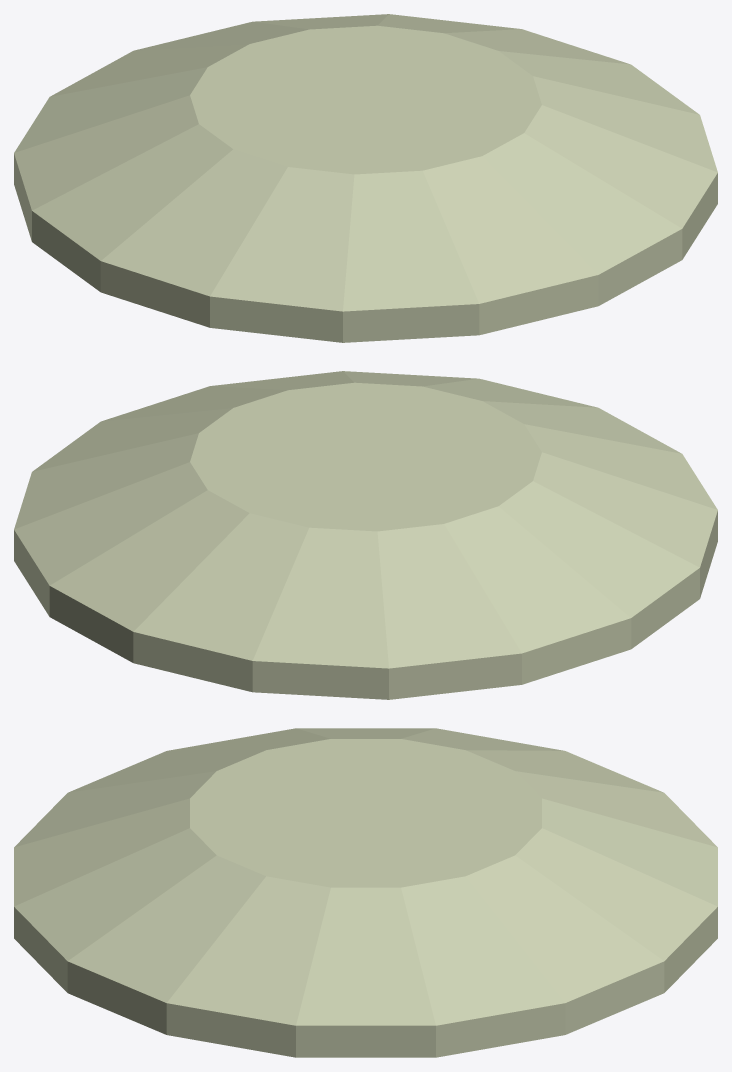
The model's file is tucana_adapter_s2_s1_2_collider.obj.
The picture shows the model from 3 angles, top to bottom: view 1: azimuth 30°, elevation 25°; view 2: azimuth 150°, elevation 25°; view 3: azimuth 270°, elevation 25°; orthographic projection.
Visible parts, largest first — view 1: tucana_adapter_s2_s1_2_collider; view 2: tucana_adapter_s2_s1_2_collider; view 3: tucana_adapter_s2_s1_2_collider.
Boxes of the visible parts, bbox=[...] form: tucana_adapter_s2_s1_2_collider: bbox=[14, 14, 717, 342]; tucana_adapter_s2_s1_2_collider: bbox=[14, 371, 717, 699]; tucana_adapter_s2_s1_2_collider: bbox=[14, 728, 717, 1057].
Bounding box in the file's own units: 2.5 × 0.375 × 2.5.
